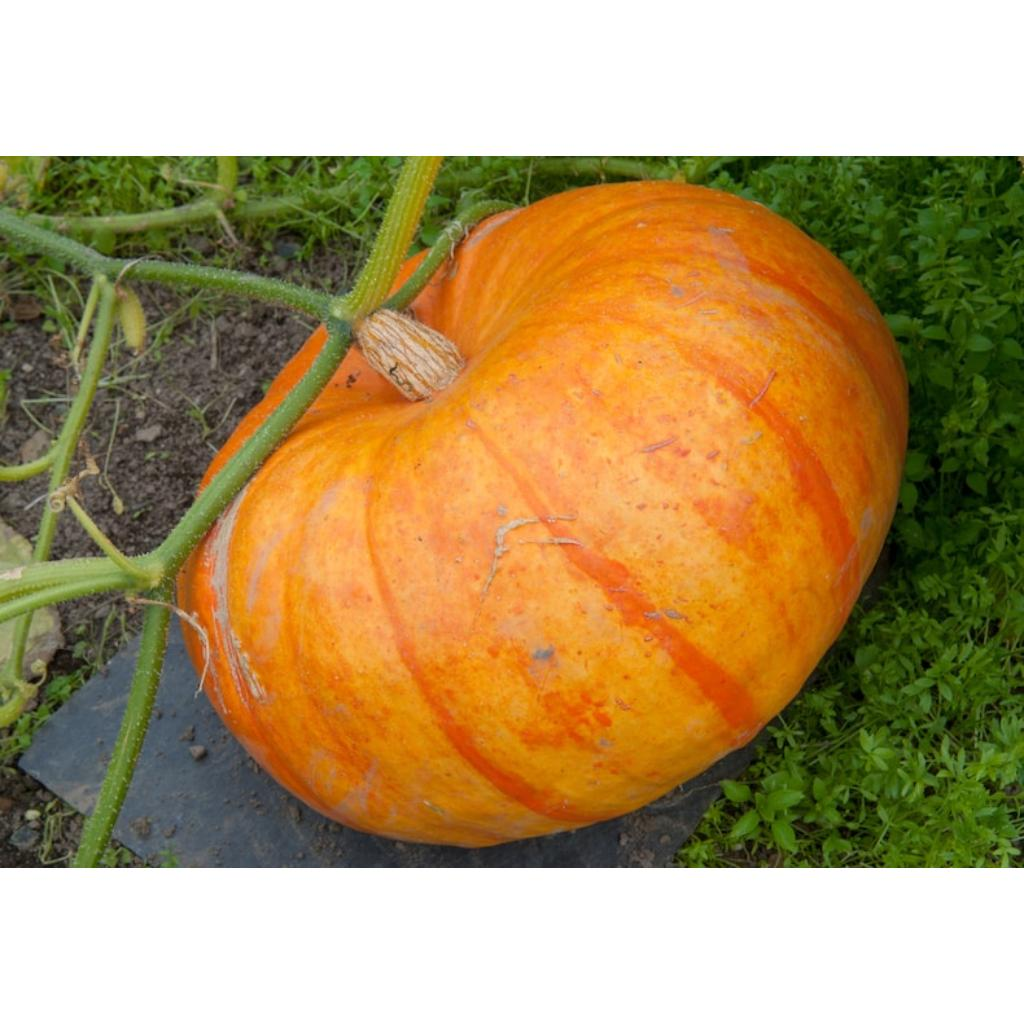pumpkin: (180, 182, 908, 847), (204, 330, 324, 483), (356, 308, 466, 401), (400, 258, 417, 279)
